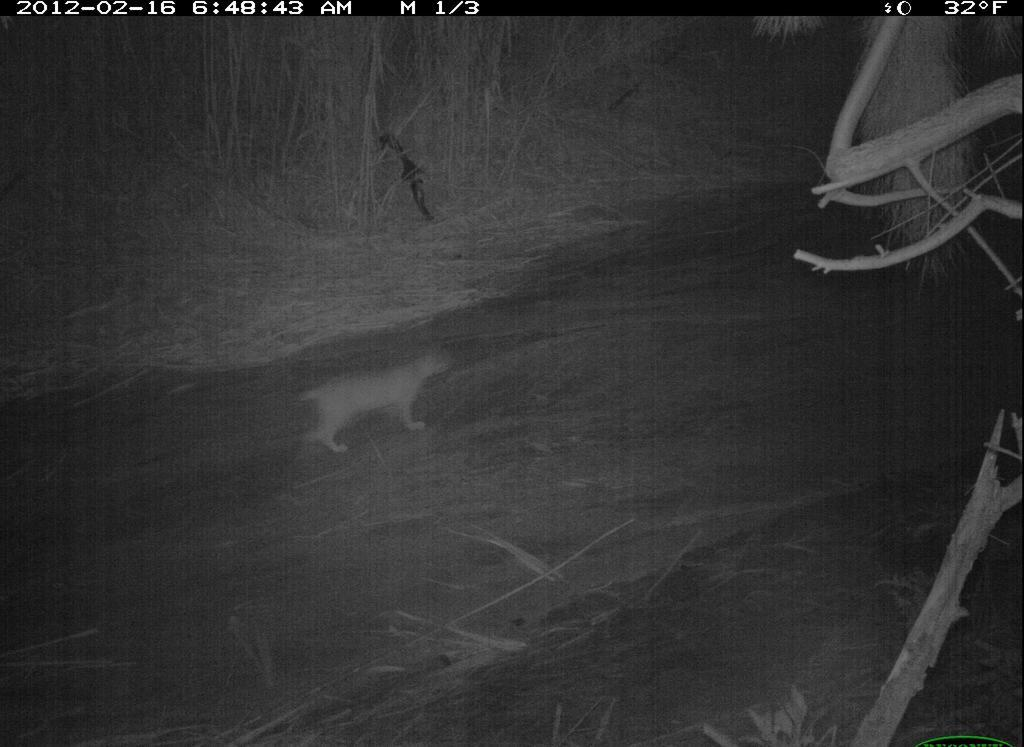bobcat: (280, 333, 487, 481)
